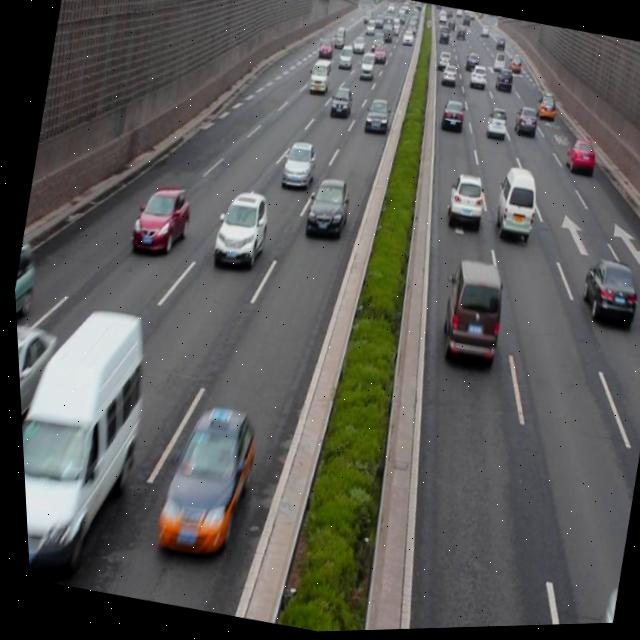car: (143, 399, 258, 559), (13, 319, 58, 454), (207, 186, 273, 271), (126, 180, 191, 257), (573, 258, 639, 329), (298, 176, 353, 243), (10, 236, 44, 343), (439, 169, 487, 236), (275, 139, 318, 193), (359, 96, 392, 139), (560, 138, 596, 177), (437, 98, 466, 134), (480, 106, 508, 143), (325, 84, 353, 121), (510, 108, 537, 140), (533, 93, 558, 124)
truck: (12, 292, 161, 583), (427, 257, 508, 371), (485, 168, 539, 242), (306, 57, 333, 95)
